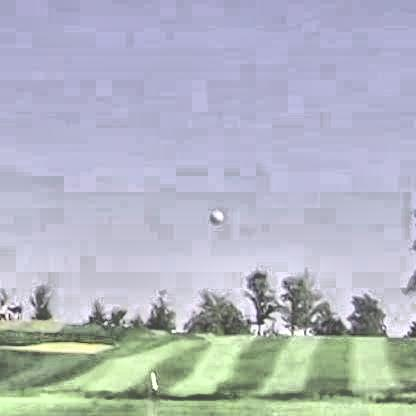golfball: (207, 206, 222, 221)
